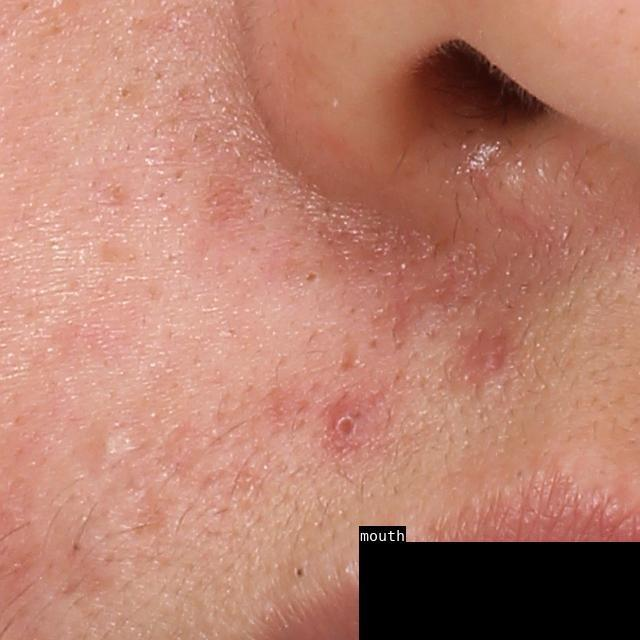comedo: (94, 425, 126, 468), (113, 85, 138, 103), (290, 563, 310, 581)
papule: (325, 402, 362, 450)
